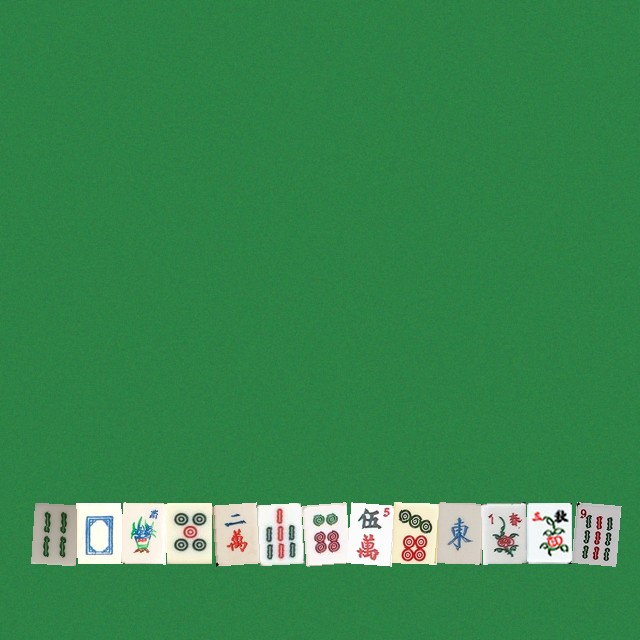tile: (31, 502, 76, 563), (76, 502, 121, 563), (121, 502, 166, 563), (166, 502, 211, 563), (211, 502, 256, 563), (256, 502, 301, 563), (301, 502, 346, 563), (346, 502, 391, 563), (391, 502, 436, 563), (436, 502, 481, 563), (481, 502, 526, 563), (526, 502, 571, 563), (571, 502, 616, 563)
